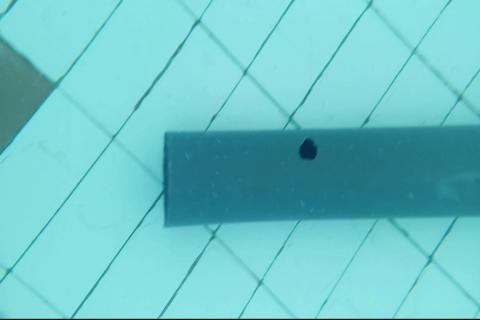kebocoran: (297, 136, 318, 161)
